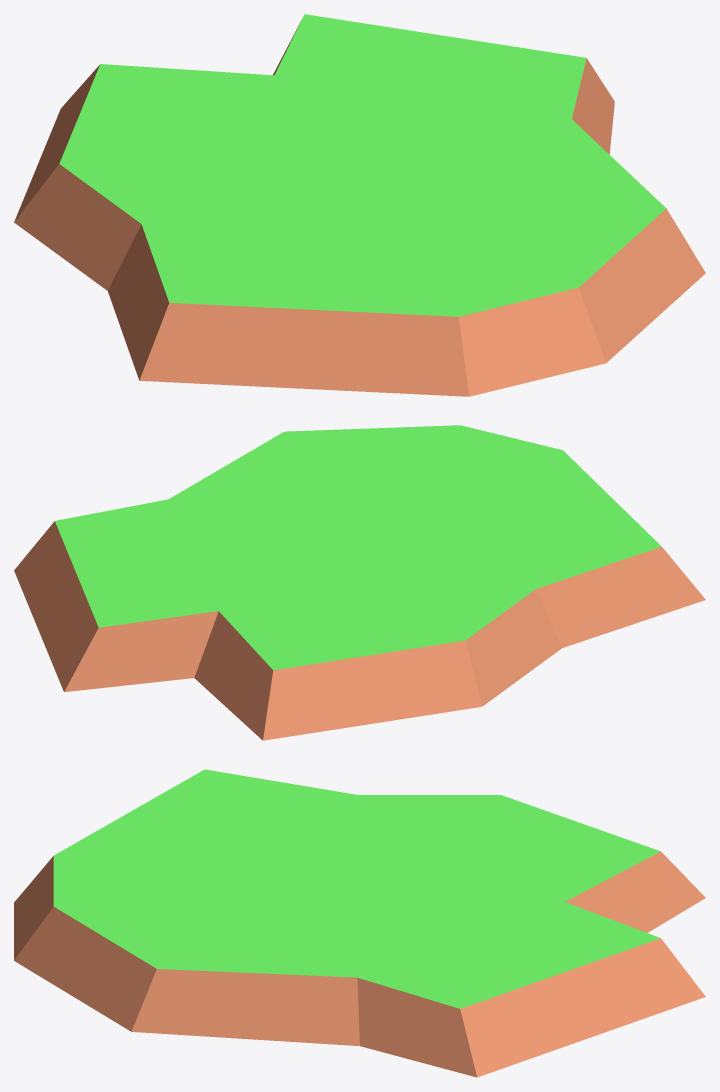
File: Rock030.fbx
3 renders of one model, top to bottom at view 1: azimuth 30°, elevation 25°; view 2: azimuth 150°, elevation 25°; view 3: azimuth 270°, elevation 25°, orthographic. The views are drawn at different scales.
Parts seen in each view (by area): view 1: Rock030; view 2: Rock030; view 3: Rock030.
Boxes of the visible parts, left/top/right/bottom form: Rock030: left=14, top=14, right=705, bottom=396; Rock030: left=14, top=425, right=705, bottom=740; Rock030: left=14, top=769, right=705, bottom=1077.
Bounding box in the file's own units: 125 × 11.23 × 134.
